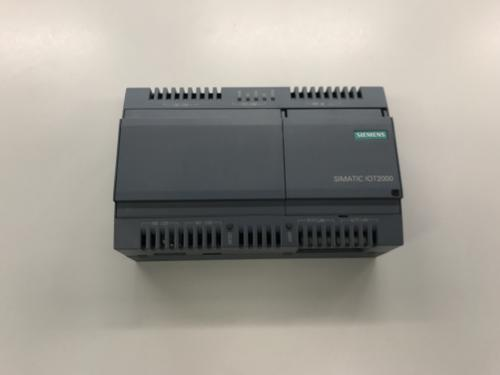device: (112, 86, 404, 262)
